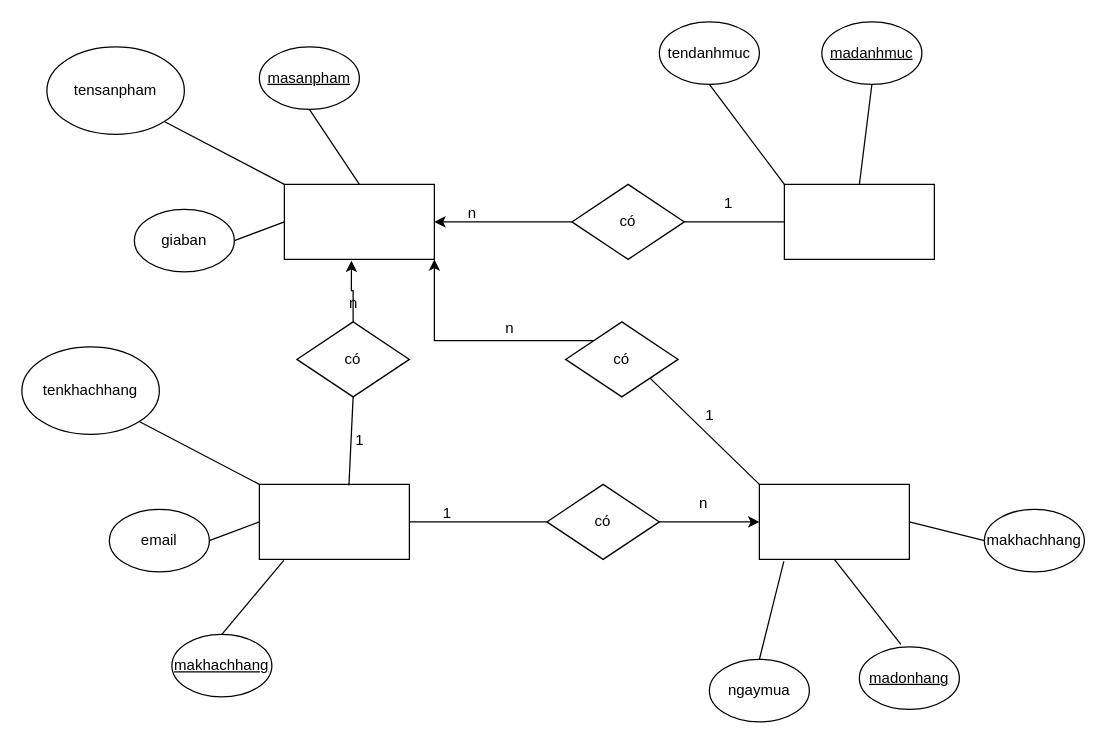
The diagram is 1106 pixels wide and 744 high, and some of its shapes have lost their labels. Each missing label, with the centre of its shape:
"danhmuc" belongs at point 858,221.
"hoadon" belongs at point 833,521.
"khachhang" belongs at point 333,521.
"sanpham" belongs at point 358,221.
